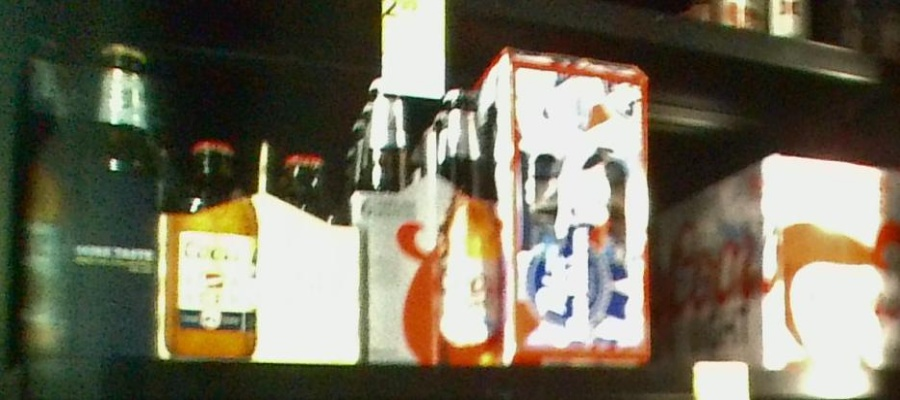bottle: (663, 155, 900, 373), (502, 45, 651, 369), (16, 34, 162, 357), (161, 133, 355, 362), (358, 79, 503, 367)
